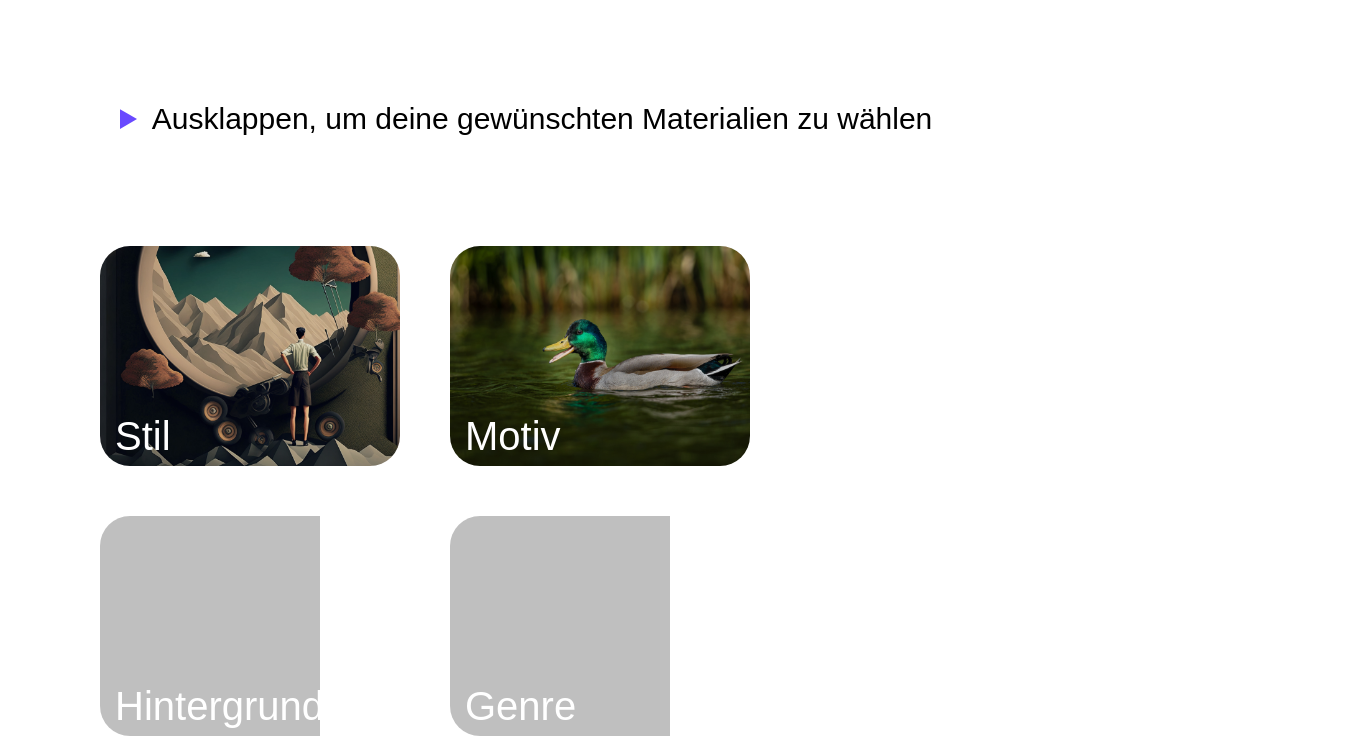
generator › should have default styling when none is selected
(page scrolled)
Step 1. Click the element showing "Stil" → (250, 356), box [100,246,400,466]
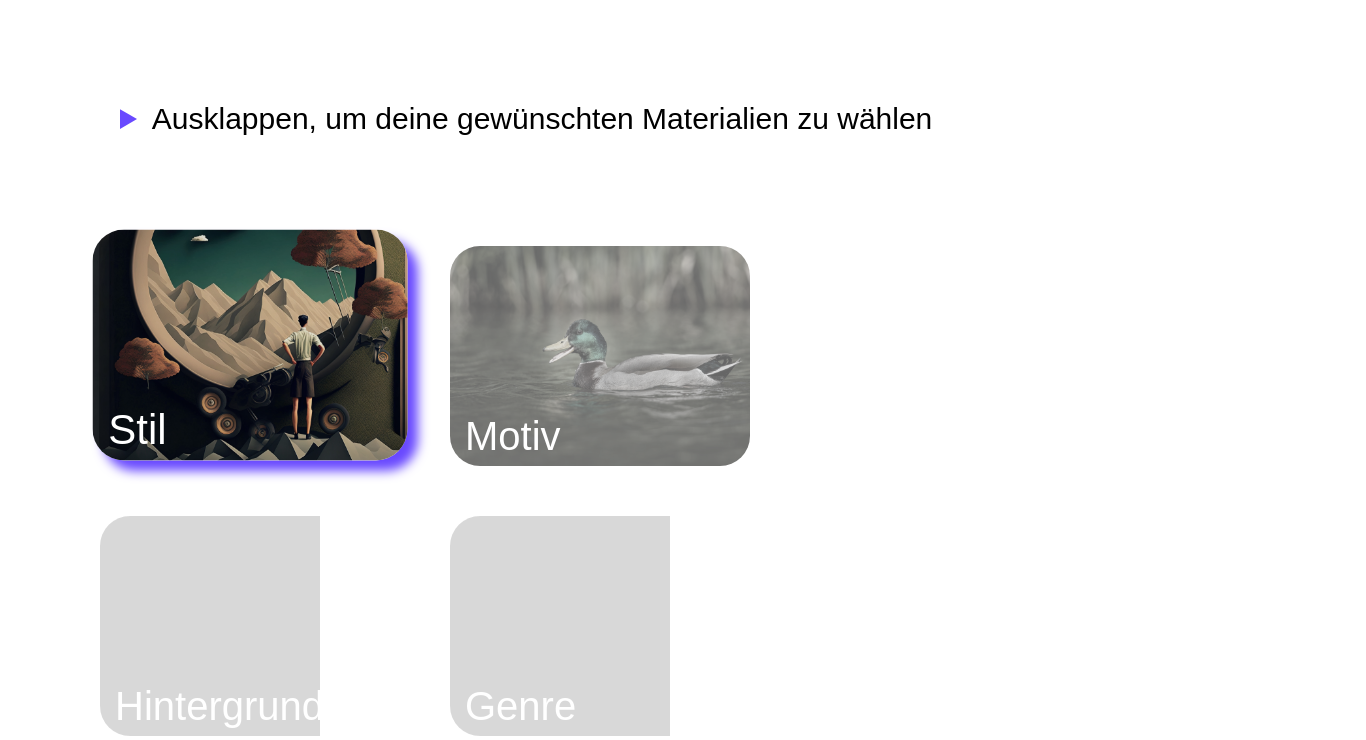
Step 2. Click the element showing "Stil" → (251, 346), box [93,230,408,461]
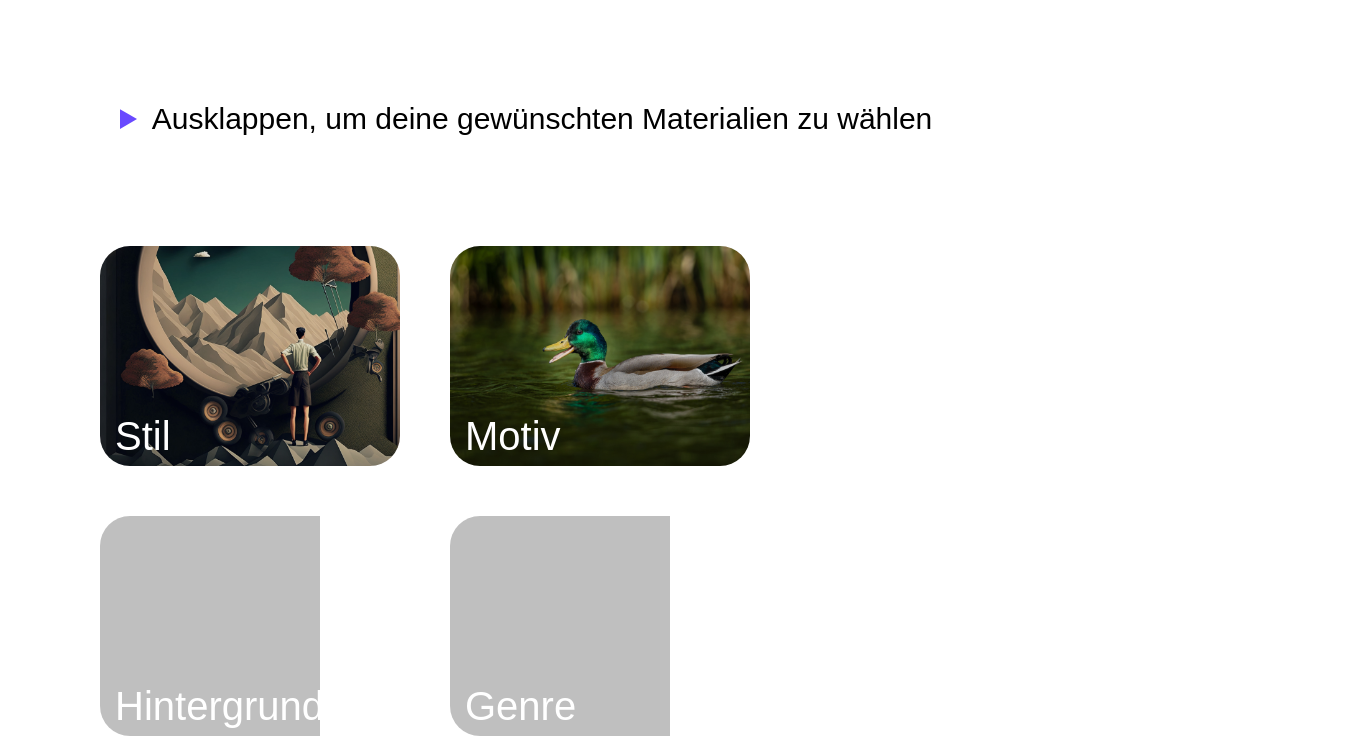
Now the element showing "Stil" is shown, box [100,246,400,466]
